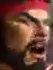ryu: (0, 0, 46, 63)
